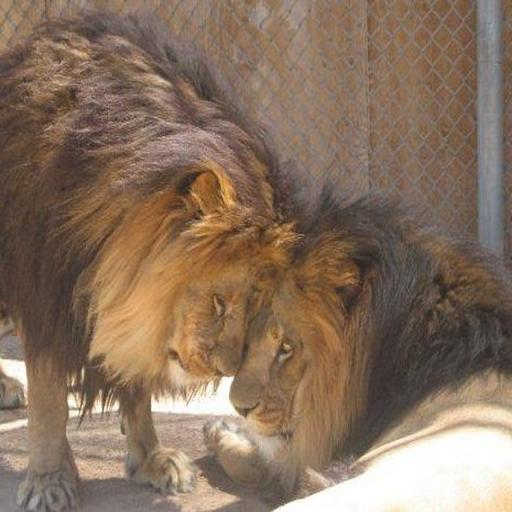Lion: (0, 0, 279, 512), (232, 177, 512, 510)
